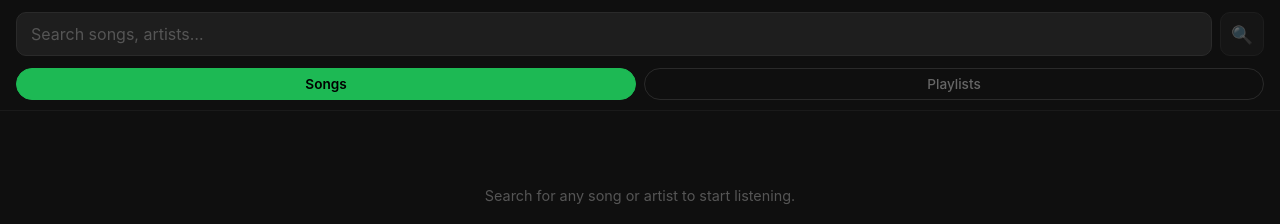
Scenario: SearchView › shows playlist empty hint when in Playlists mode with no recent
Click the tab "Playlists" at (954, 84), box [644,68,1264,100]
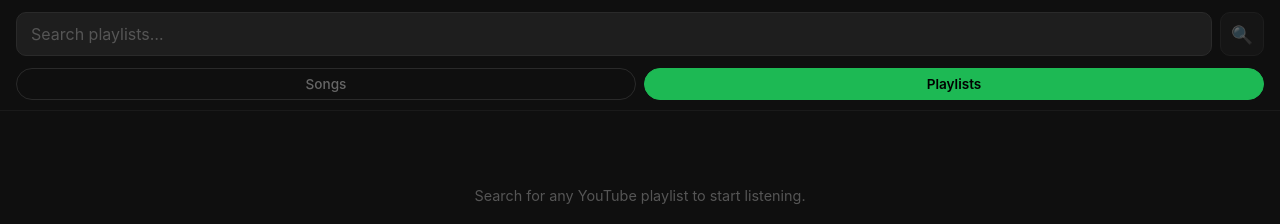
Now the text "Search for any YouTube playlist to start listening." is shown, box [474,185,806,207]
